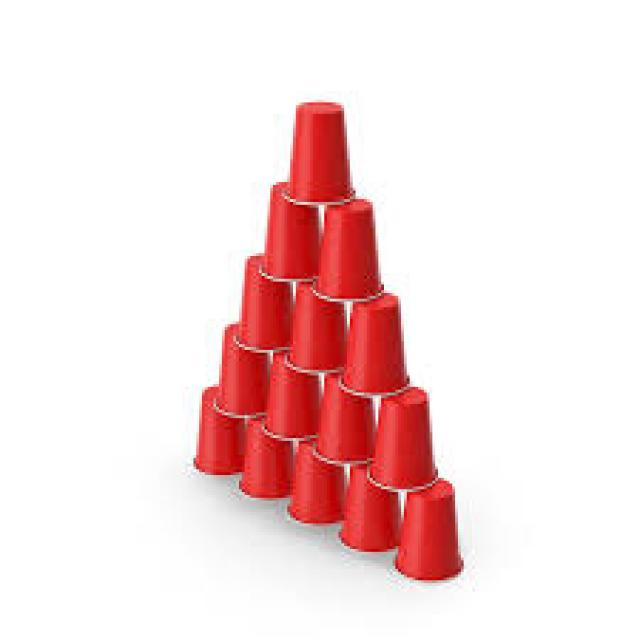cup: (284, 90, 374, 218)
